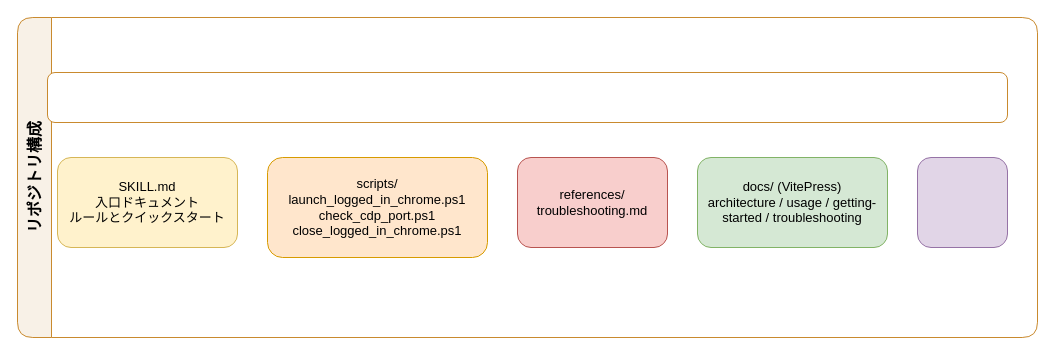
The diagram is 1055 pixels wide and 355 high, and some of its shapes have lost their labels. Each missing label, with the box of its shape:
README.md / README.ja.md agents/openai.yaml: (916, 156, 1008, 248)
目的: Googleログインは手動のまま保ち、通常のChromeへPlaywrightをCDP接続して自動化する。: (46, 72, 1008, 122)
